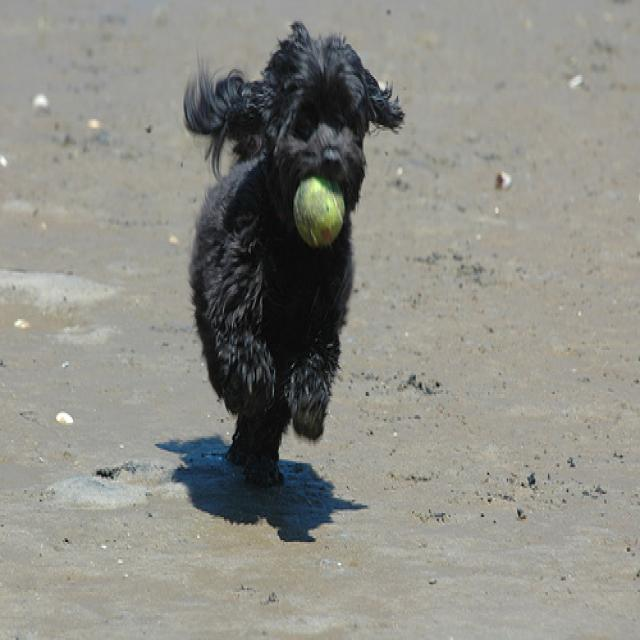dog-havanese: (175, 6, 404, 475)
